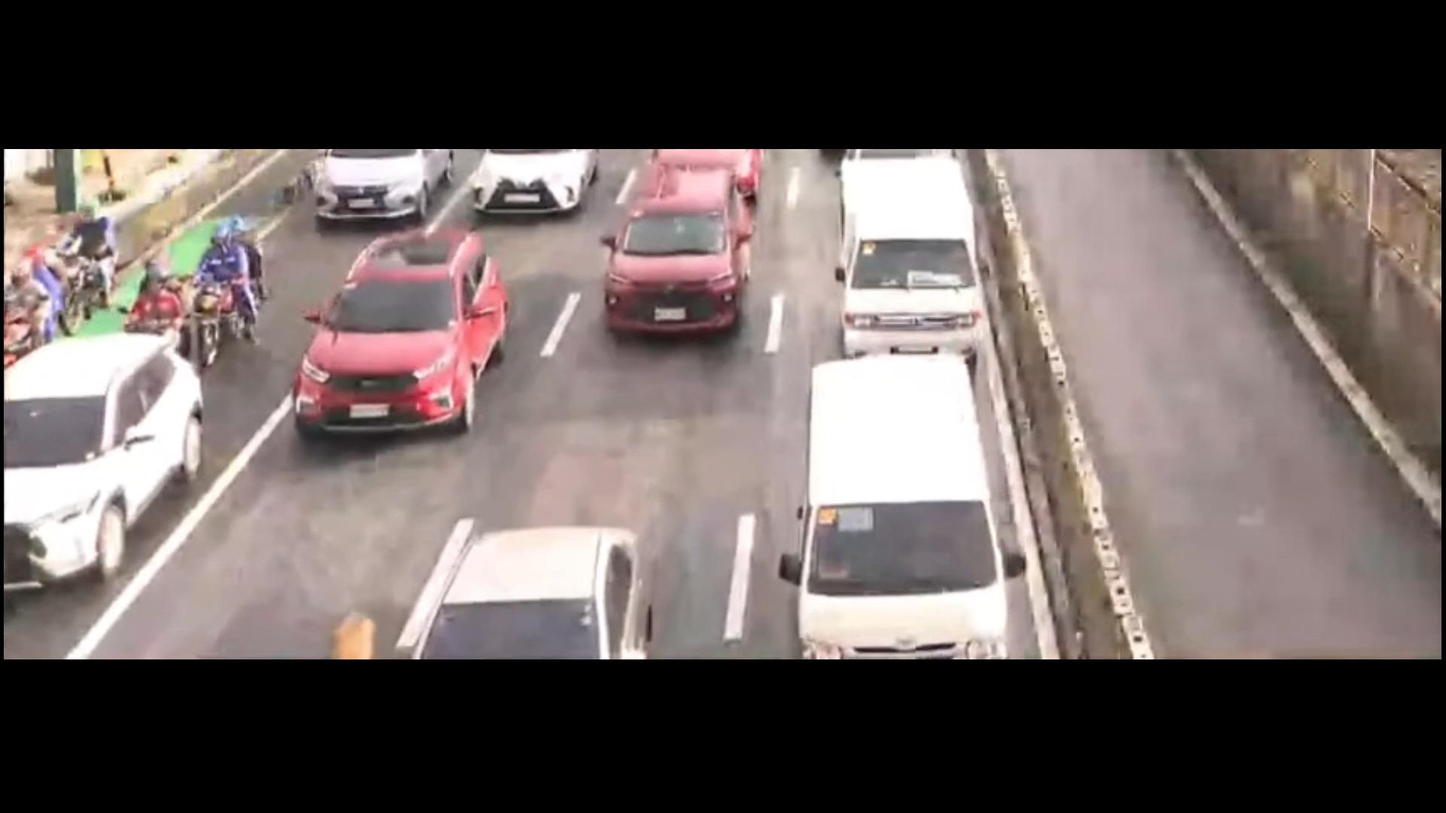Motorcycle: (196, 216, 260, 361), (4, 231, 70, 365), (126, 256, 196, 369), (64, 196, 122, 311)
Multicab: (804, 152, 992, 376)
SUV: (0, 339, 201, 585), (297, 231, 501, 438), (602, 162, 746, 329)
Sedan: (401, 519, 655, 661)
Van: (795, 356, 1013, 662)
